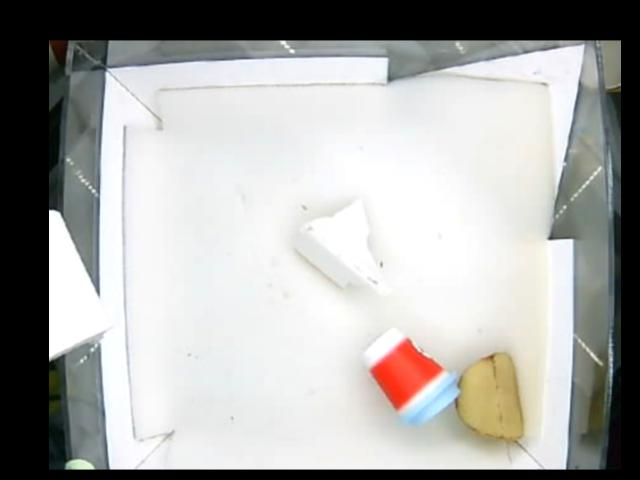China: (294, 200, 385, 296)
Cup: (365, 328, 462, 425)
Potato: (454, 353, 524, 443)
